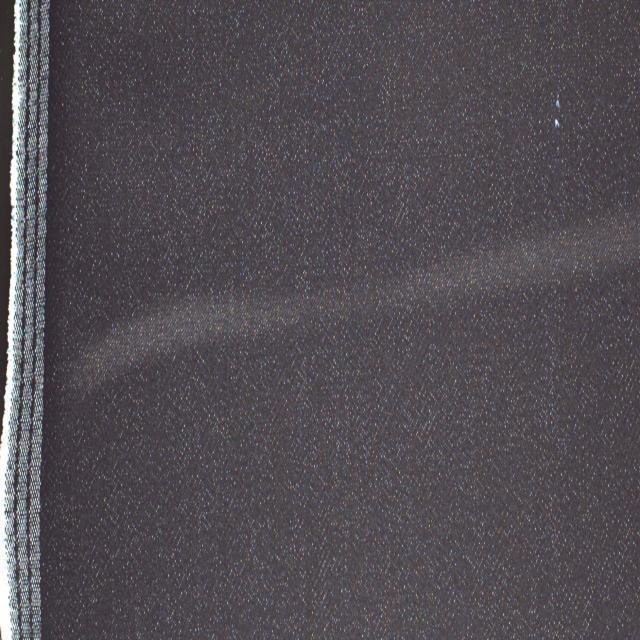Stain: (42, 203, 640, 398)
